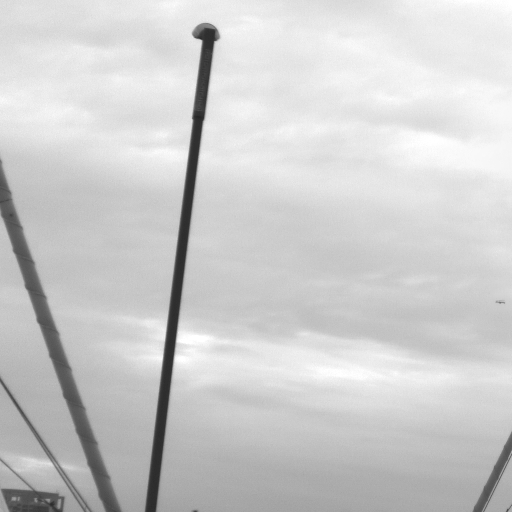uav: (495, 299, 505, 304)
